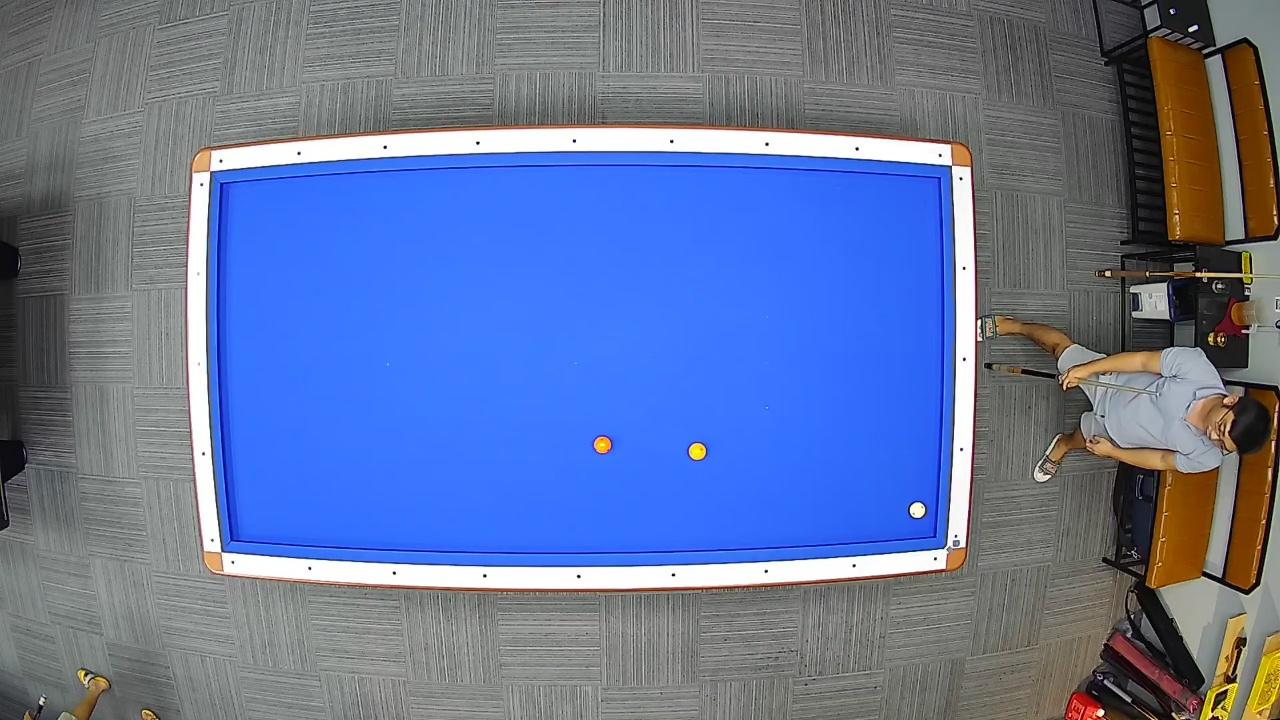Orange: (590, 434, 614, 455)
White: (908, 501, 931, 521)
Yellow: (687, 442, 707, 462)
